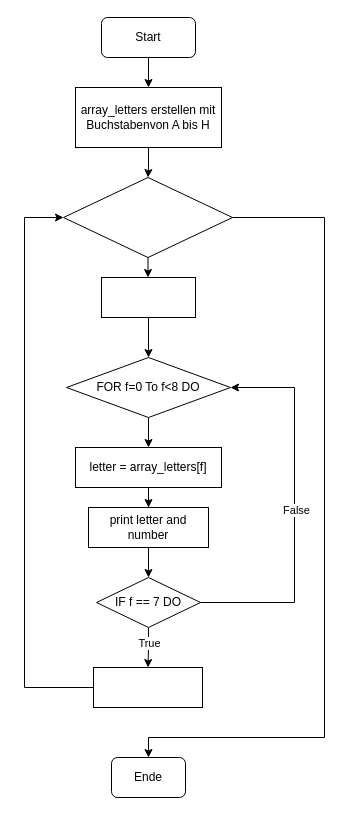
The diagram is 350 pixels wide and 815 high, and some of its shapes have lost their labels. The shapes that lost their labels are listed below. From the top down, each one's box as (x1, y1, x2, y2) in pixels, then its label:
(62, 176, 232, 258): FOR i=8 TO i>0 DO
(100, 276, 196, 318): number = i
(92, 666, 202, 708): change in new line
